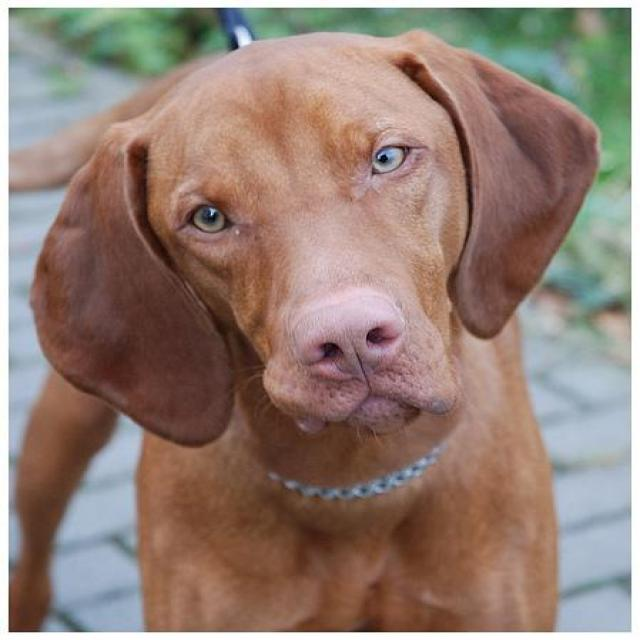vizsla: (32, 30, 600, 630)
